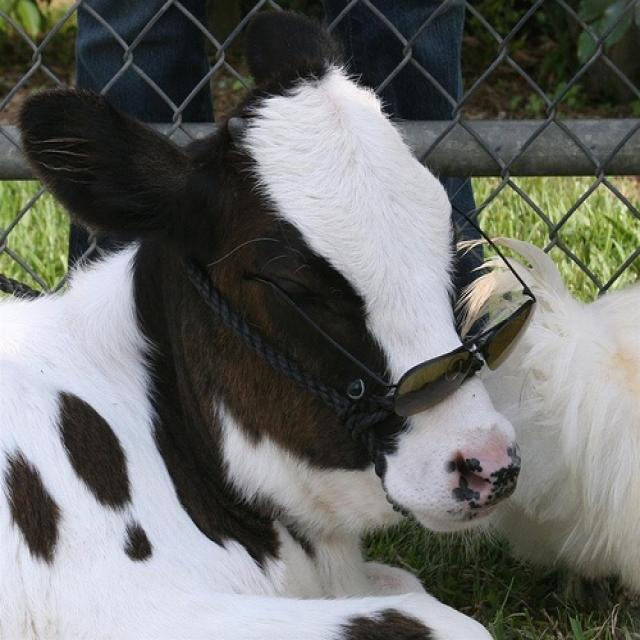cow: (2, 13, 522, 638)
